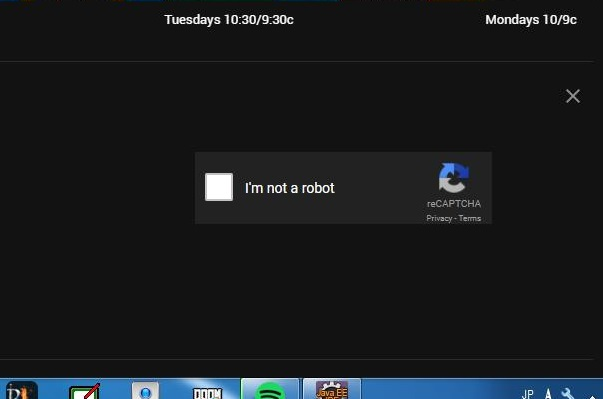captcha: (204, 172, 335, 202)
